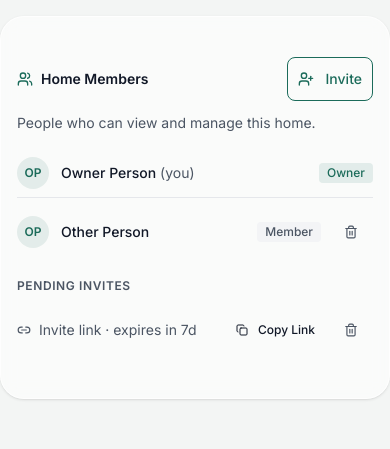
Test: HomeMembersSection — failures must be visible, not silent › revoke invite fails → error shown AND the invite stays in the list
The width and height of the screenshot is (390, 449).
Check: the text "Owner Person" is shown, box x1=61 y1=164 x2=156 y2=181
Click the button named "revoke invite" at (351, 330), box x1=329 y1=308 x2=373 y2=352
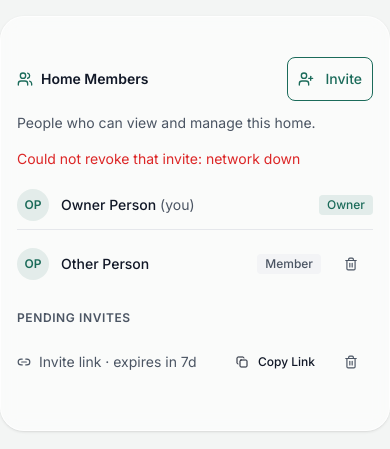
Check: the number of buttons named "revoke invite" is 1, box x1=329 y1=340 x2=373 y2=384
Check: the message shows "Could not revoke", box x1=17 y1=150 x2=300 y2=167
